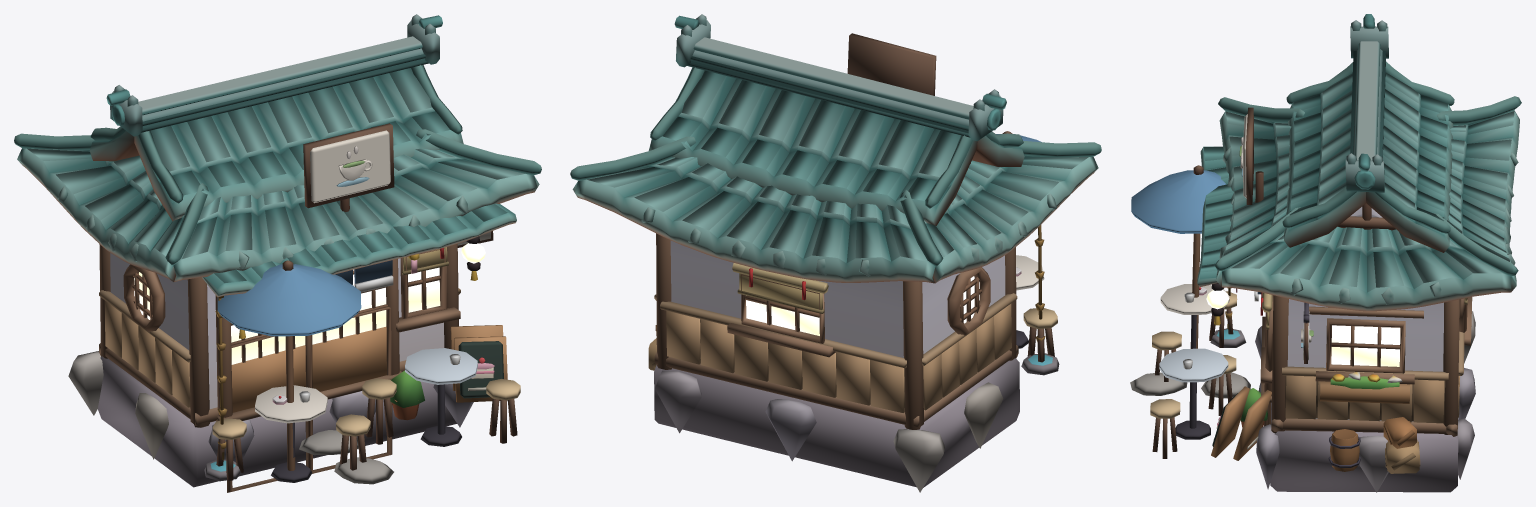
File: shop-2-v1.glb
The picture shows the model from 3 angles, left to right: view 1: azimuth 30°, elevation 25°; view 2: azimuth 150°, elevation 25°; view 3: azimuth 270°, elevation 25°; orthographic projection. The views are drawn at different scales.
Parts seen in each view (by area): view 1: shop-2-v1, window_glow; view 2: shop-2-v1, window_glow; view 3: shop-2-v1, window_glow.
Part boxes in pixels (x1,y1,x2,y2): shop-2-v1: (14, 14, 541, 492); window_glow: (134, 243, 485, 364); shop-2-v1: (570, 14, 1101, 492); window_glow: (746, 276, 979, 335); shop-2-v1: (1130, 14, 1521, 492); window_glow: (1206, 290, 1400, 366).
Size of the model in its own units: 3.53 by 3.38 by 3.41.
